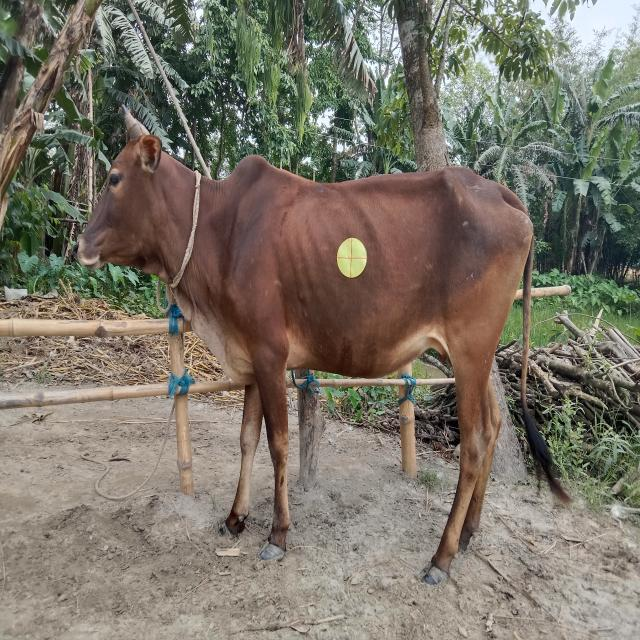badan_sapi: (227, 178, 528, 372)
sapi: (63, 109, 577, 602)
